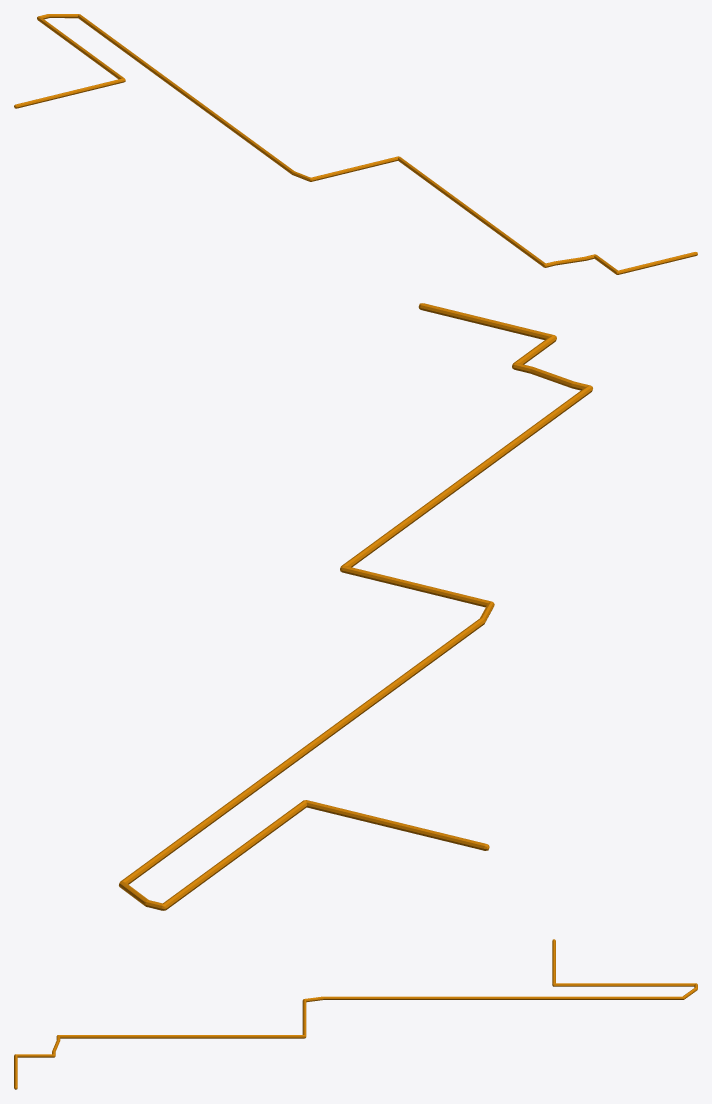
3 renders of one model, top to bottom at view 1: azimuth 30°, elevation 25°; view 2: azimuth 150°, elevation 25°; view 3: azimuth 270°, elevation 25°, orthographic. The views are drawn at different scales.
Size of the model in its own units: 1856 by 20 by 3614.
